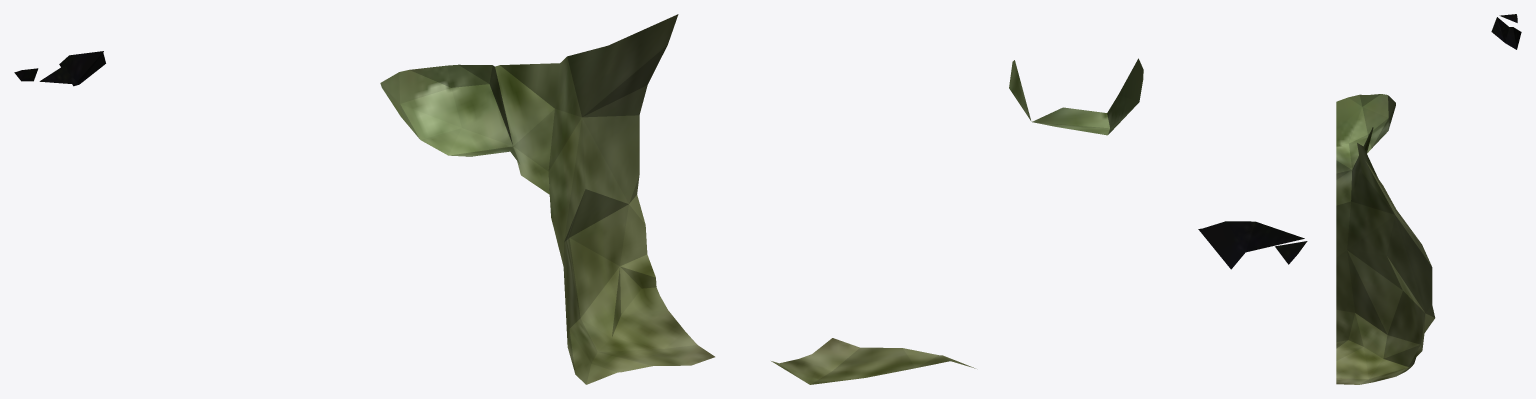
The picture shows the model from 3 angles, left to right: view 1: azimuth 30°, elevation 25°; view 2: azimuth 150°, elevation 25°; view 3: azimuth 270°, elevation 25°; orthographic projection. The views are drawn at different scales.
Bounding box in the file's own units: 1.68 × 0.9234 × 0.7688.
1 material, 1 textured.
